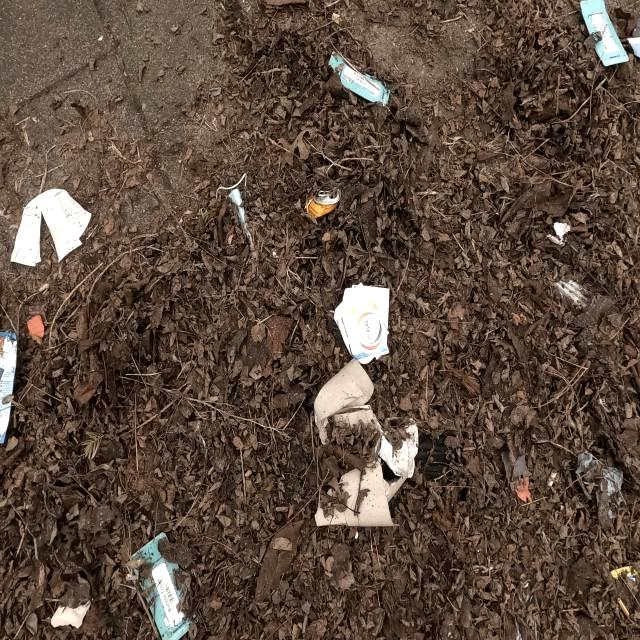Coffee Cup: (10, 186, 91, 264)
